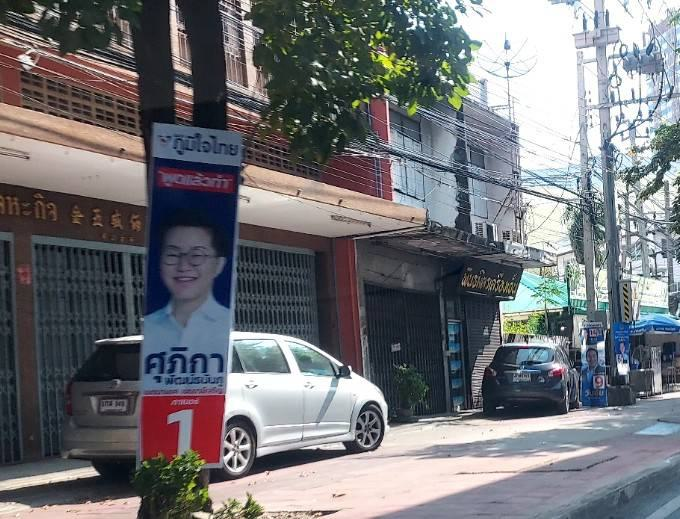Banner: (140, 121, 232, 471)
